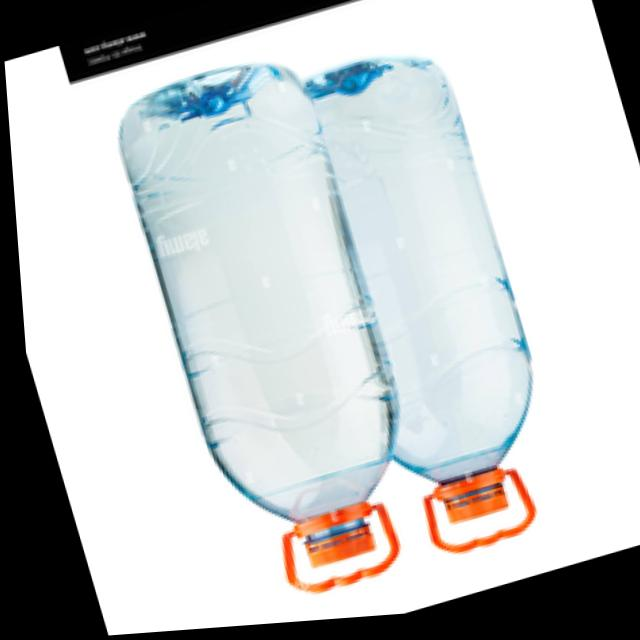plastic_water_bottles: (92, 52, 415, 624), (293, 39, 578, 578)
